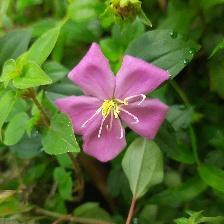malabar melastome: (55, 41, 173, 165)
